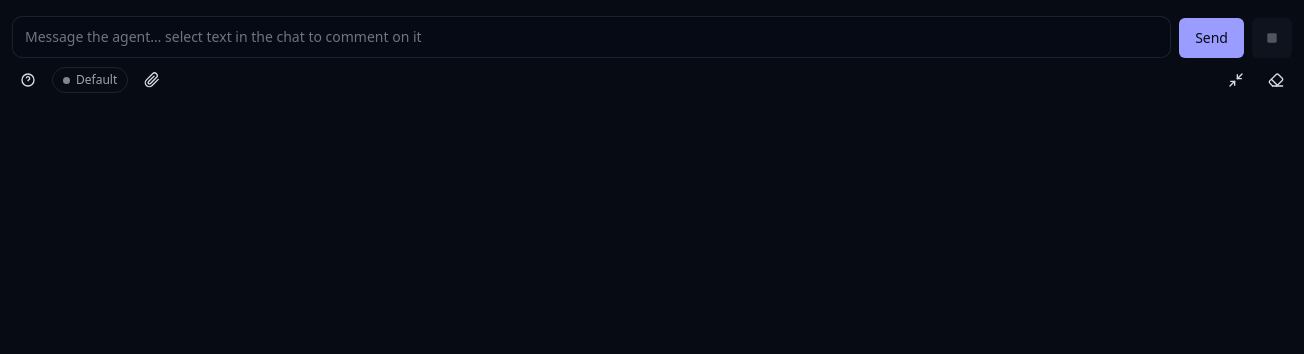
Test case: the pill menu picks a mode and Esc closes it with preventDefault
This screenshot has width=1304, height=354.
Click the button with aria-label "Agent mode" at [90, 80], box [52,67,128,93]
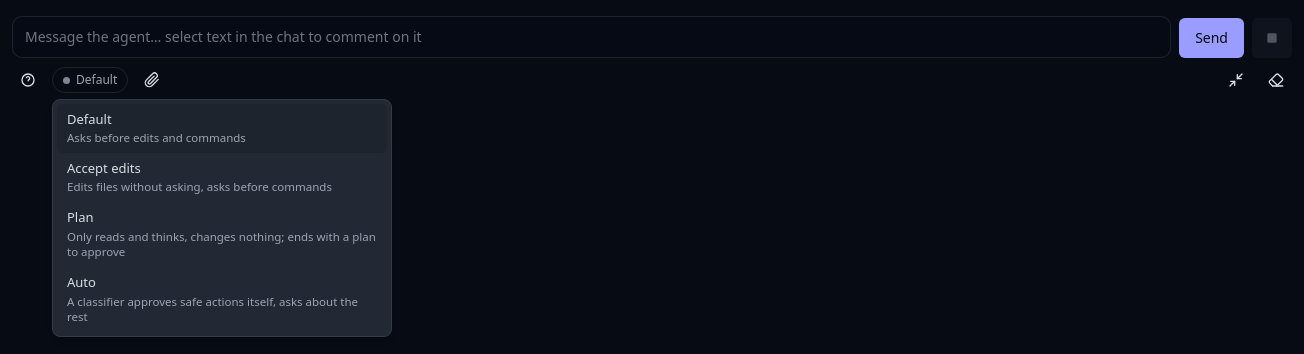
Now the text "Asks before edits and commands" is shown, box [67,130,246,145]
Press Escape in the menu, box [52,99,392,337]
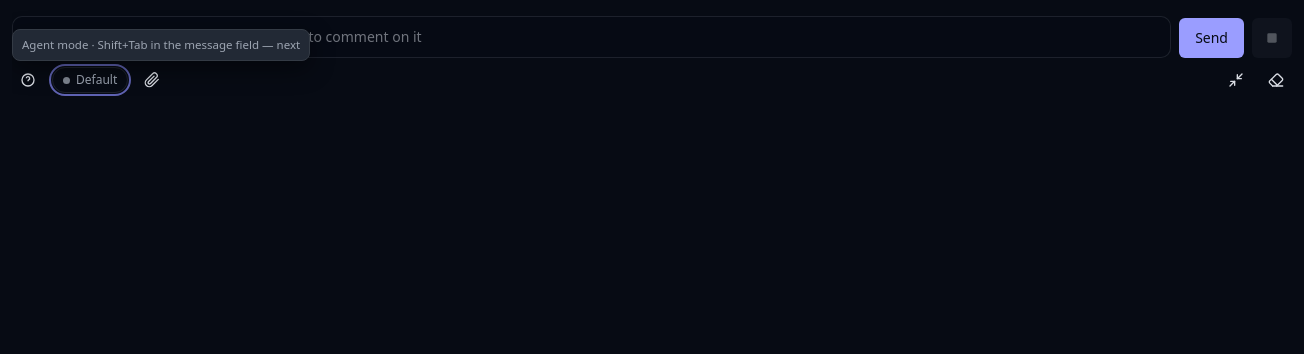
Now the menu item "Asks before edits and commands" is gone
Click the button with aria-label "Agent mode" at [90, 80], box [52,67,128,93]
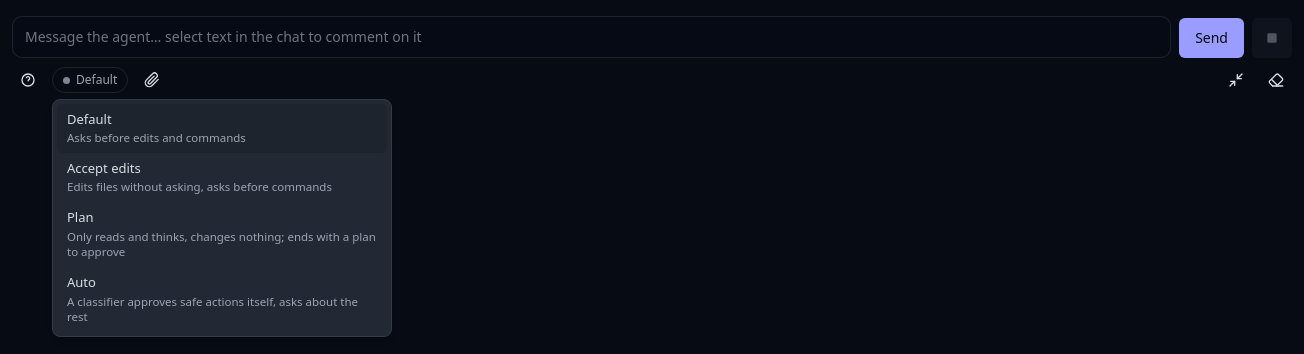
Click the text "Plan" at [80, 217], box [67,208,94,226]
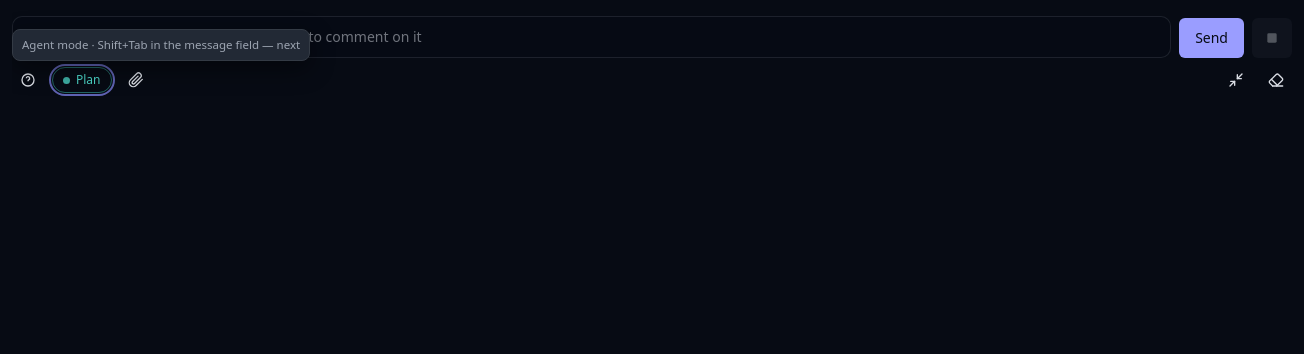
Now the button with aria-label "Agent mode" reads "Plan", box [52,67,112,93]
